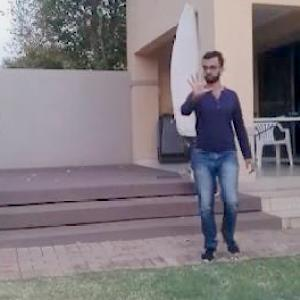follow_hand: (182, 62, 216, 102)
